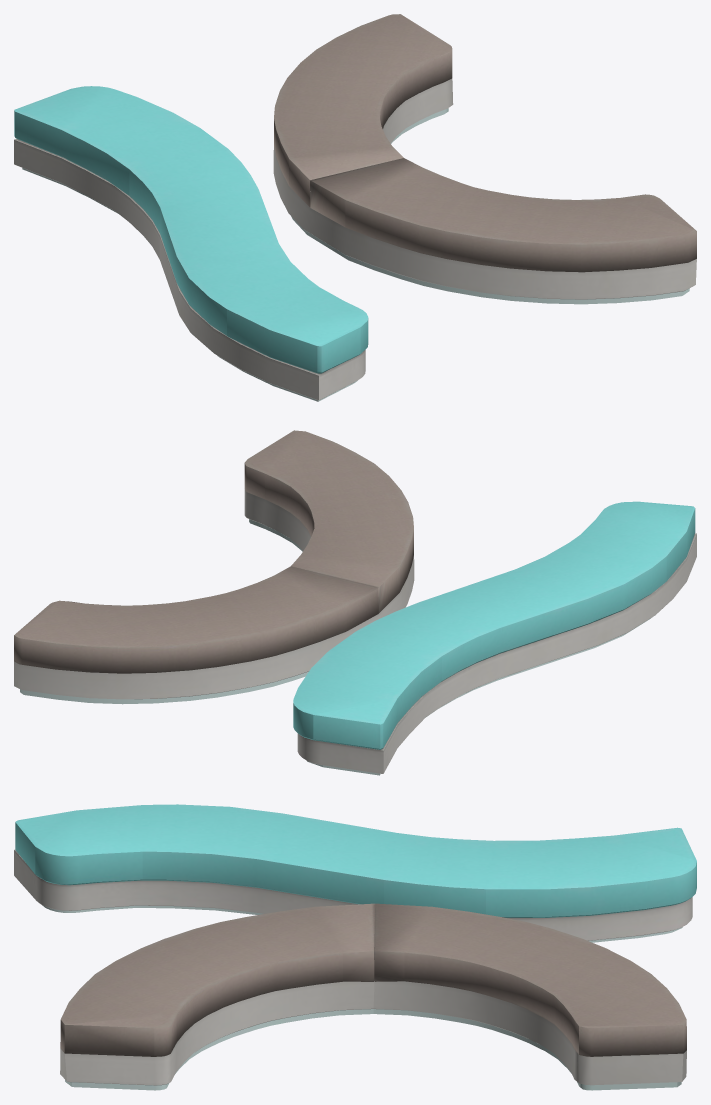
File: sofa new.fbx
3 views of the same model, one above another, from view 1: azimuth 30°, elevation 25°; view 2: azimuth 150°, elevation 25°; view 3: azimuth 270°, elevation 25° (orthographic). The views are drawn at different scales.
Parts seen in each view (by area): view 1: model_21:Mesh, model_22:Mesh; view 2: model_21:Mesh, model_22:Mesh; view 3: model_21:Mesh, model_22:Mesh.
Part boxes in pixels (box(x1,y1,x2,y2)): model_21:Mesh: box(273, 14, 696, 304); model_22:Mesh: box(14, 86, 368, 401); model_21:Mesh: box(14, 430, 414, 704); model_22:Mesh: box(293, 501, 696, 775); model_21:Mesh: box(60, 903, 686, 1090); model_22:Mesh: box(14, 804, 696, 942).
Bounding box in the file's own units: 4.81 × 0.6515 × 6.21.
2 materials, 2 textured.
